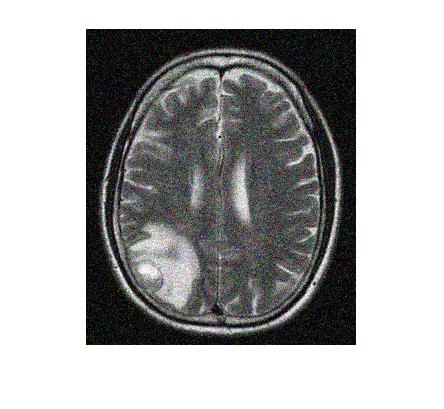Brain_Cancer: (129, 224, 202, 309)
